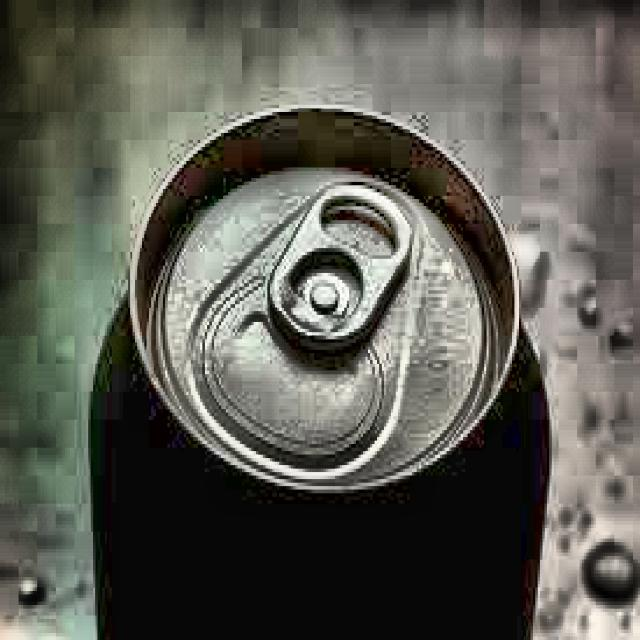can: (78, 95, 559, 640)
